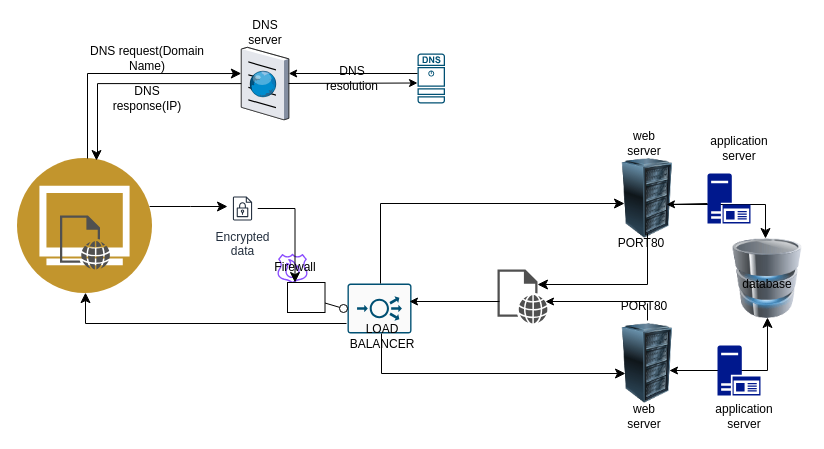
The diagram is 824 pixels wide and 449 high, and some of its shapes have lost their labels. The centre of each missing label's shape, as x and y in pixels:
"PORT443" goes at [305,297].
"web page" goes at [522,296].
